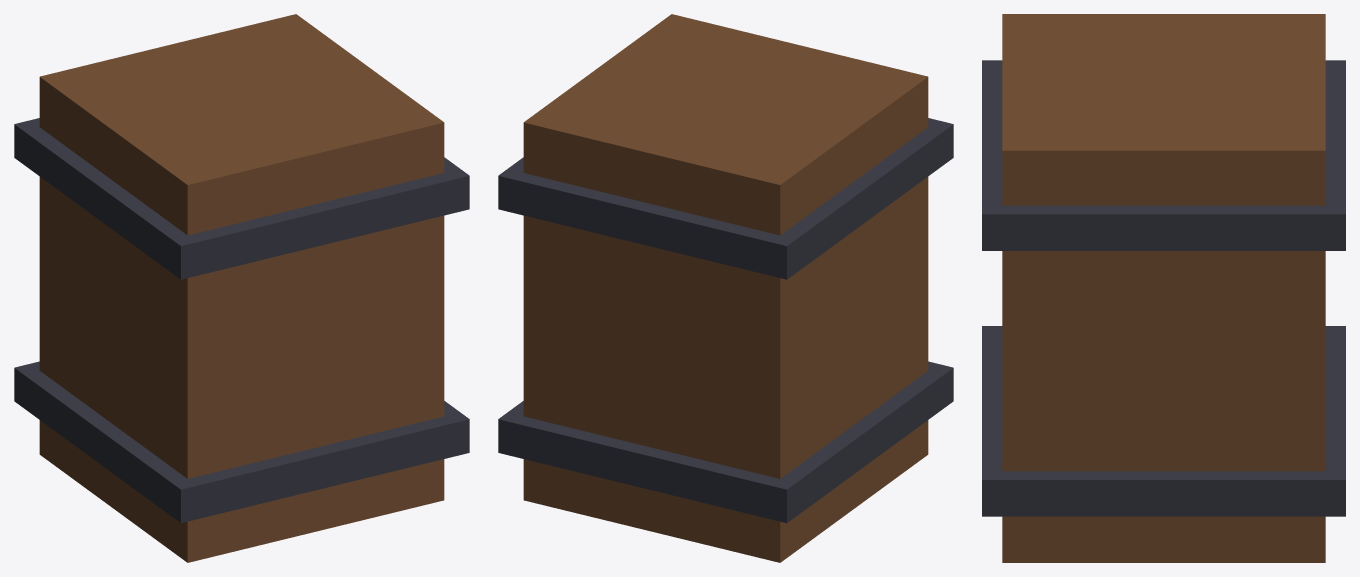
The model's file is barrel.glb.
3 views of the same model, side by side, from view 1: azimuth 30°, elevation 25°; view 2: azimuth 150°, elevation 25°; view 3: azimuth 270°, elevation 25° (orthographic). The views are drawn at different scales.
Visible parts, largest first — view 1: barrel; view 2: barrel; view 3: barrel.
Boxes of the visible parts, x1,y1,x2,y2 form: barrel: [14, 14, 469, 562]; barrel: [498, 14, 953, 562]; barrel: [982, 14, 1345, 562].
Size of the model in its own units: 0.72 by 0.9 by 0.72.
Materials: 1 (1 with a texture image).
